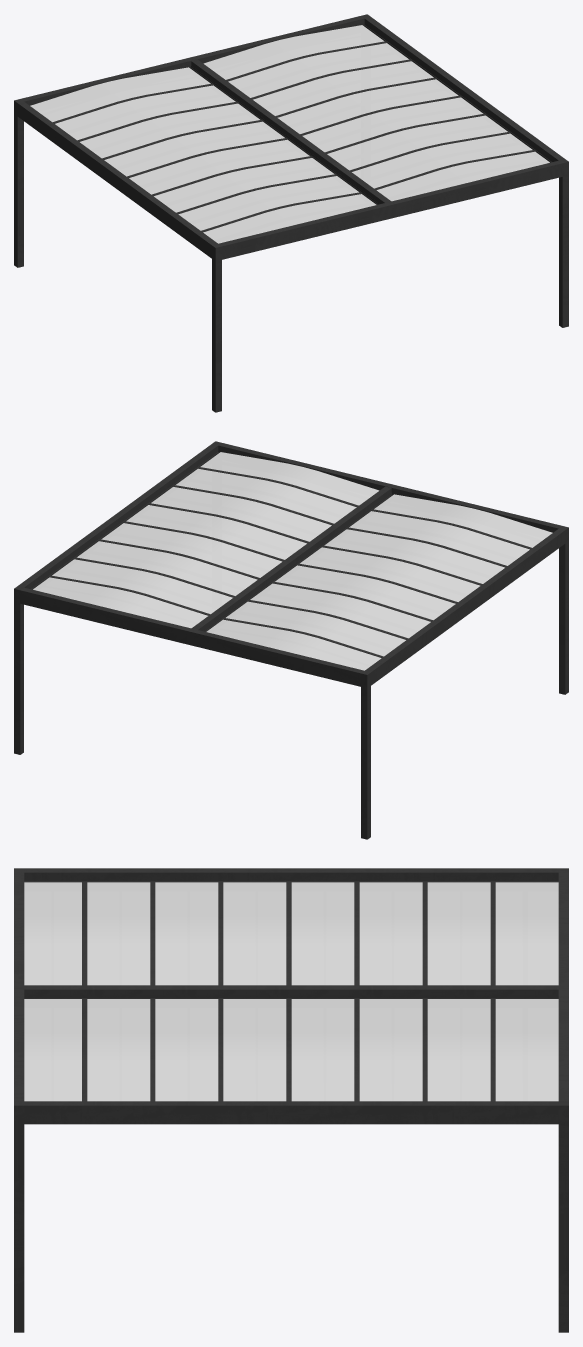
File: hyrcaryaad-h24-w54-d53_matblack.fbx
The picture shows the model from 3 angles, top to bottom: view 1: azimuth 30°, elevation 25°; view 2: azimuth 150°, elevation 25°; view 3: azimuth 270°, elevation 25°; orthographic projection. The views are drawn at different scales.
Parts seen in each view (by area): view 1: hyrcaryaad-h24-w54-d53-matblack; view 2: hyrcaryaad-h24-w54-d53-matblack; view 3: hyrcaryaad-h24-w54-d53-matblack.
Part boxes in pixels (bbox=[...]): hyrcaryaad-h24-w54-d53-matblack: bbox=[14, 14, 568, 412]; hyrcaryaad-h24-w54-d53-matblack: bbox=[14, 441, 568, 839]; hyrcaryaad-h24-w54-d53-matblack: bbox=[14, 868, 568, 1332].
Bounding box in the file's own units: 550 × 245 × 543.
2 materials, 1 textured.
